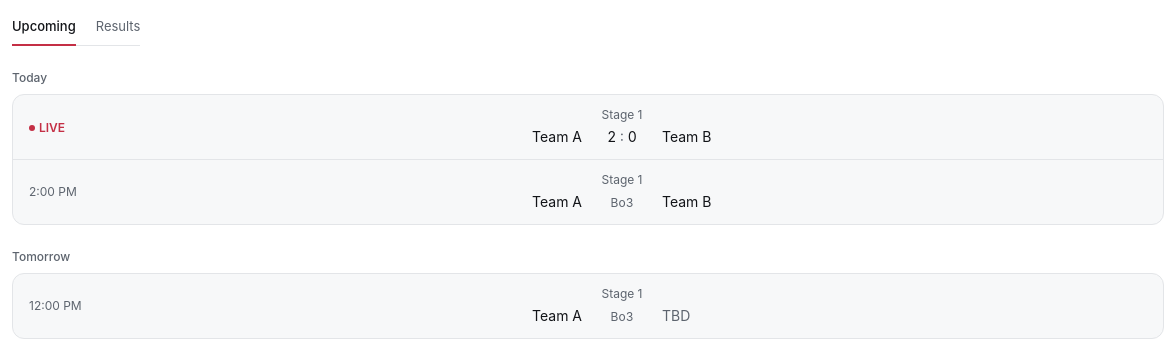
Test case: MatchList › switches to results
What coordinates should you click on to do the following:
click the tab "results"
I would click on:
 (118, 29)
Its box is [96,12,140,46].
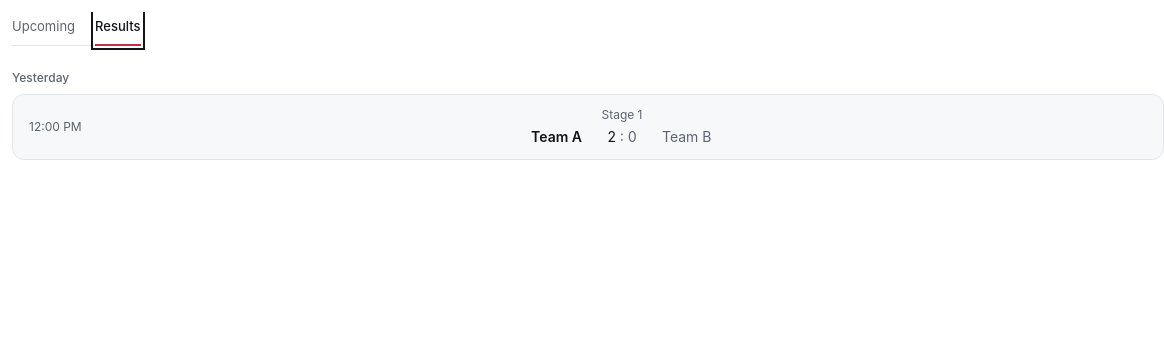
Now the headings read "Yesterday", in this order, box [12,70,69,85]
